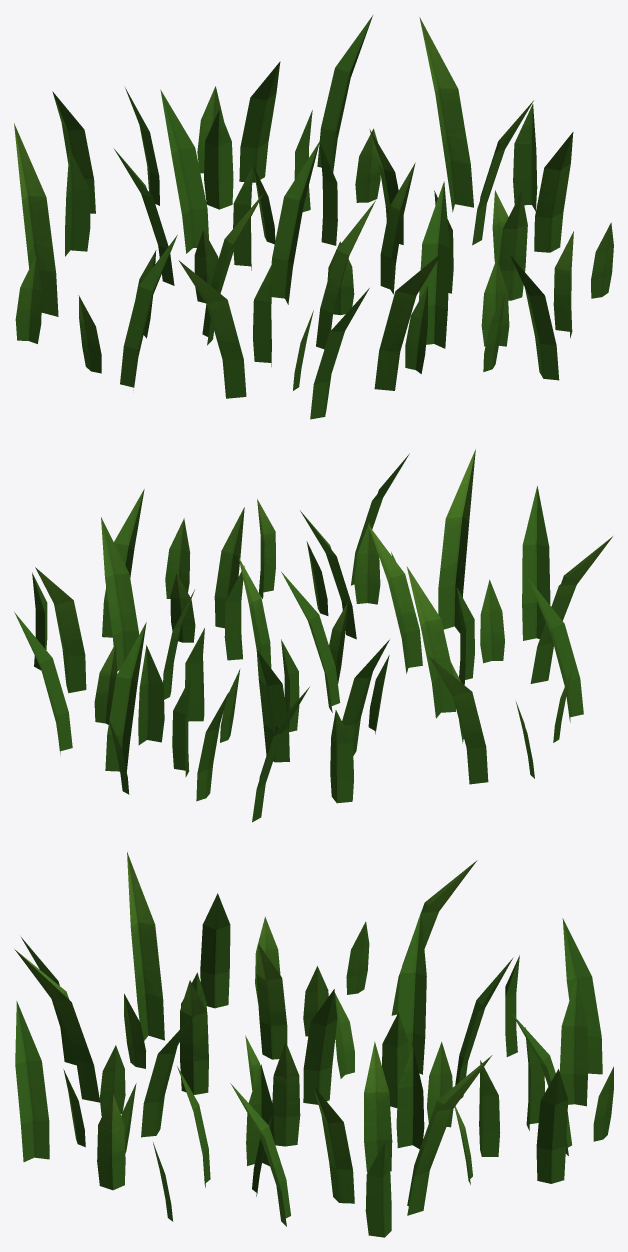
The model's file is GrassSmall1.fbx.
3 views of the same model, one above another, from view 1: azimuth 30°, elevation 25°; view 2: azimuth 150°, elevation 25°; view 3: azimuth 270°, elevation 25° (orthographic). The views are drawn at different scales.
Visible parts, largest first — view 1: GrassSmall1; view 2: GrassSmall1; view 3: GrassSmall1.
Part boxes in pixels (box(x1,y1,x2,y2)): GrassSmall1: box(14, 15, 613, 419); GrassSmall1: box(14, 449, 612, 822); GrassSmall1: box(14, 852, 613, 1237).
Bounding box in the file's own units: 0.6931 × 0.2032 × 0.7064.
Materials: 1 (1 with a texture image).
